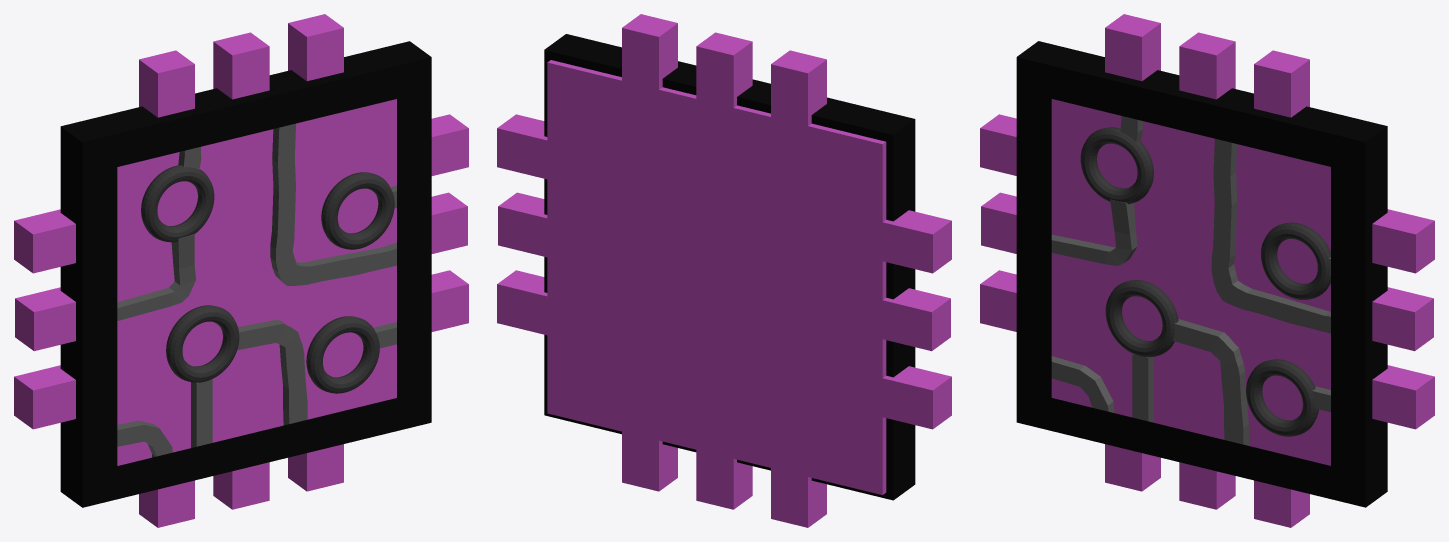
File: chip4.gltf
The picture shows the model from 3 angles, left to right: view 1: azimuth 30°, elevation 25°; view 2: azimuth 150°, elevation 25°; view 3: azimuth 330°, elevation 25°; orthographic projection.
Visible parts, largest first — view 1: Cube, Cube2, Cube1, Torus; view 2: Cube, Cube2; view 3: Cube, Cube2, Cube1, Torus.
Part boxes in pixels (bbox=[...]): Cube: bbox=[14, 14, 468, 527]; Cube2: bbox=[60, 41, 431, 507]; Cube1: bbox=[117, 123, 396, 457]; Torus: bbox=[141, 165, 394, 393]; Cube: bbox=[497, 14, 951, 527]; Cube2: bbox=[544, 34, 915, 500]; Cube: bbox=[980, 14, 1434, 527]; Cube2: bbox=[1016, 41, 1387, 507]; Cube1: bbox=[1051, 116, 1330, 445]; Torus: bbox=[1080, 127, 1330, 436].
Bounding box in the file's own units: 2.6 × 2.59 × 0.2773.
